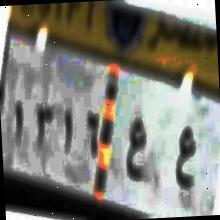1: (58, 104, 74, 160), (12, 94, 26, 145)
3: (33, 98, 55, 153)
6: (82, 107, 100, 156)
ain: (170, 116, 196, 202), (122, 112, 150, 188)
